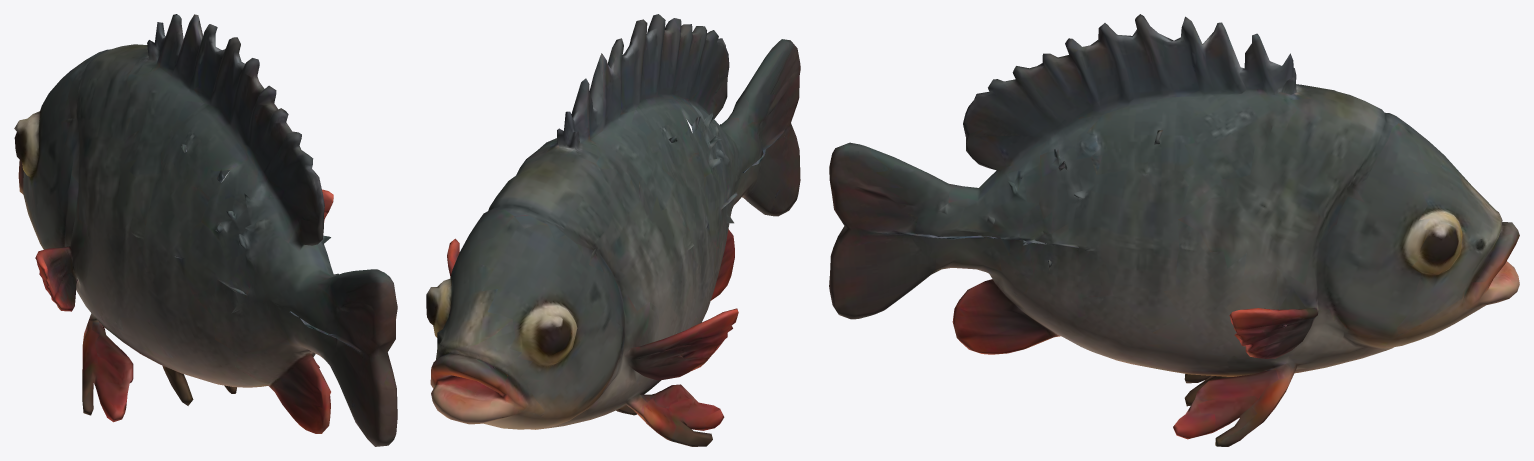
File: tilapia.glb
3 views of the same model, side by side, from view 1: azimuth 30°, elevation 25°; view 2: azimuth 150°, elevation 25°; view 3: azimuth 270°, elevation 25° (orthographic). The views are drawn at different scales.
Parts seen in each view (by area): view 1: tripo_node_2b15116a-9669-4ecc-9fba-3db0d3675cc8; view 2: tripo_node_2b15116a-9669-4ecc-9fba-3db0d3675cc8; view 3: tripo_node_2b15116a-9669-4ecc-9fba-3db0d3675cc8.
Boxes of the visible parts, <box> form: tripo_node_2b15116a-9669-4ecc-9fba-3db0d3675cc8: <box>14,14,397,446</box>; tripo_node_2b15116a-9669-4ecc-9fba-3db0d3675cc8: <box>426,14,800,446</box>; tripo_node_2b15116a-9669-4ecc-9fba-3db0d3675cc8: <box>829,14,1519,446</box>.
Bounding box in the file's own units: 0.4865 × 0.6077 × 1.
1 material, 1 textured.
